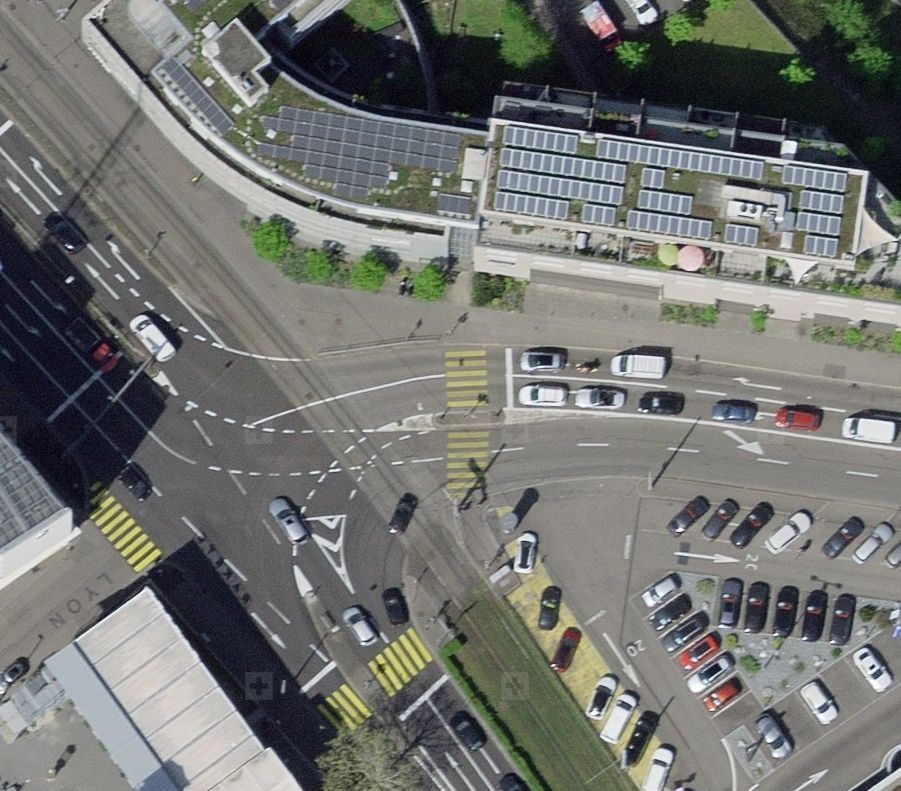solar: (491, 126, 850, 258), (253, 101, 475, 216), (158, 54, 236, 136)
